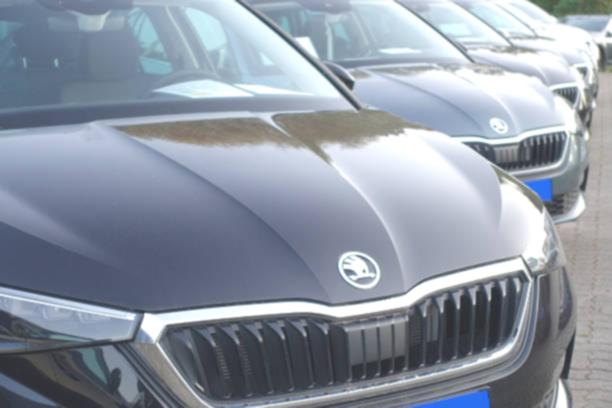skoda: (334, 247, 388, 292), (486, 114, 516, 138)
